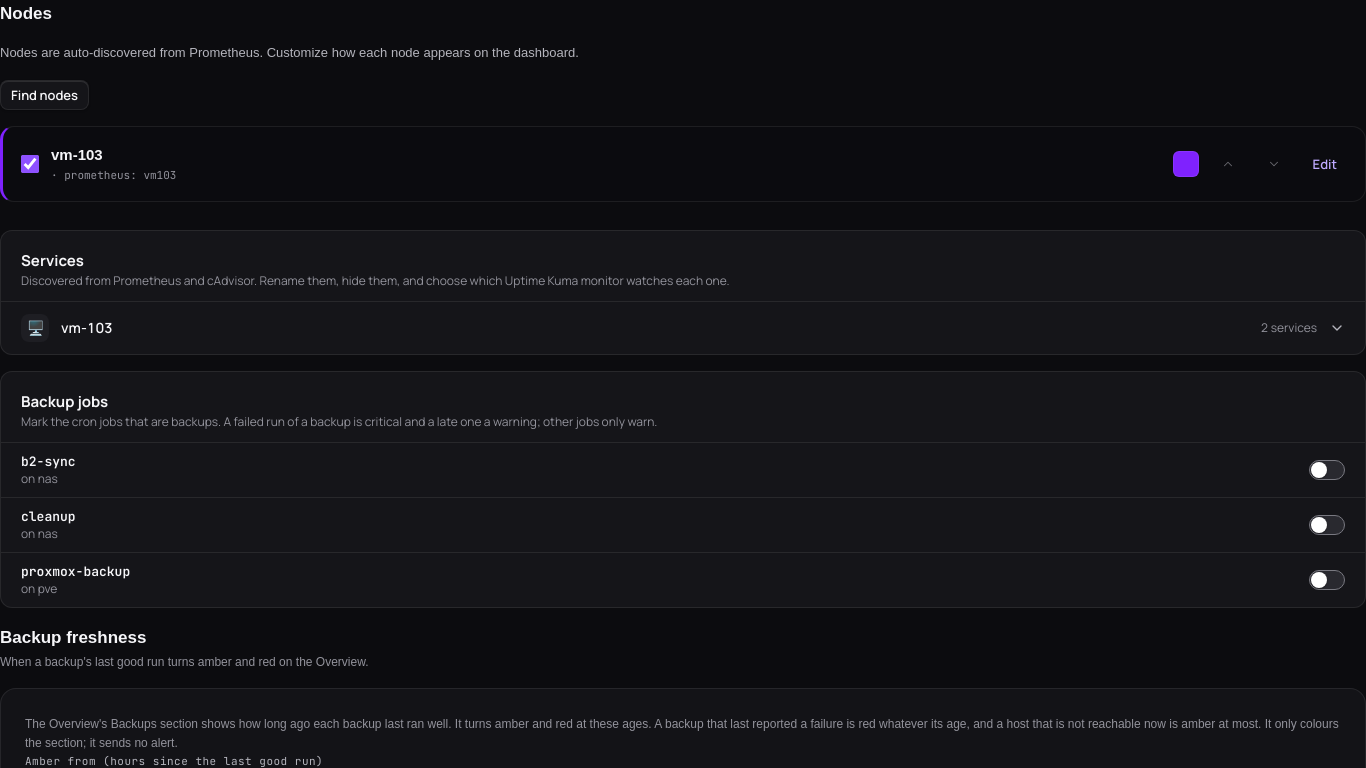
services › a running container with no Kuma monitor says "no monitor" (the Loki case)
Click the button "🖥 vm-103 2 services" at (87, 327), box [1,302,1365,354]
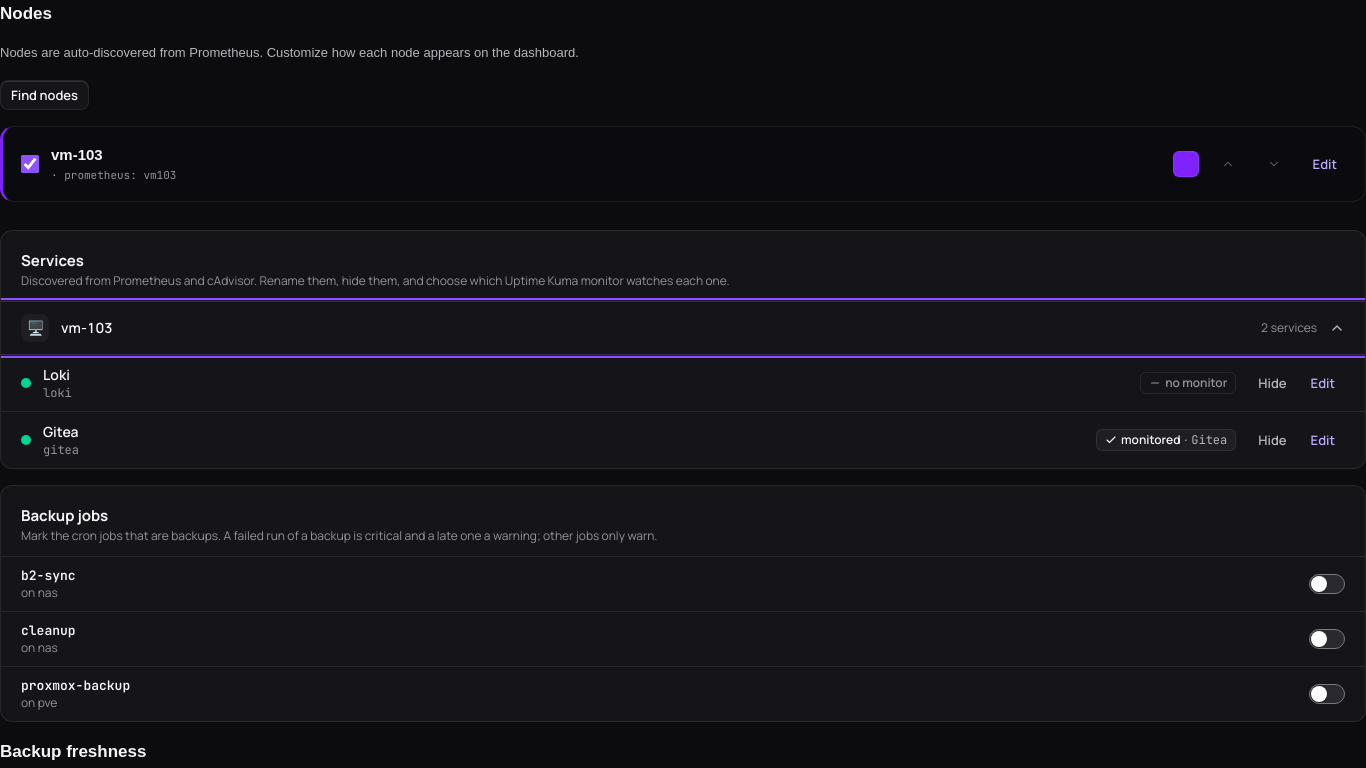
Check: the element showing "no monitor" is shown, box [1140,372,1236,394]
Check: the element showing "monitored · Gitea" is shown, box [1096,429,1236,451]
